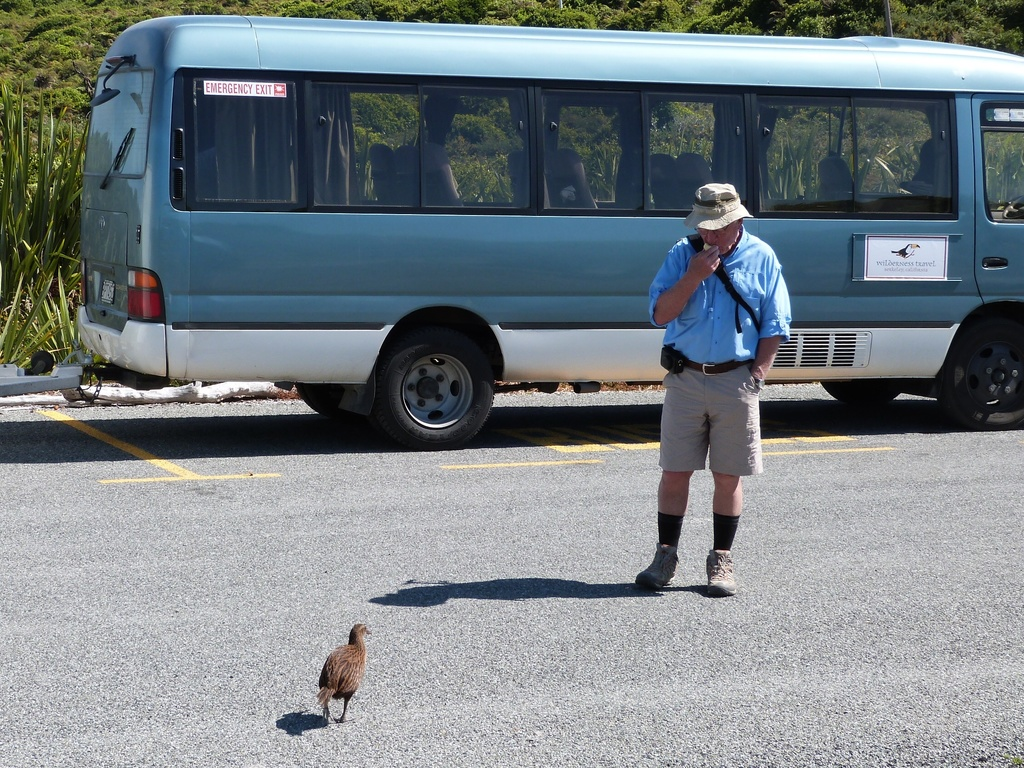Bus: (74, 10, 1022, 444)
